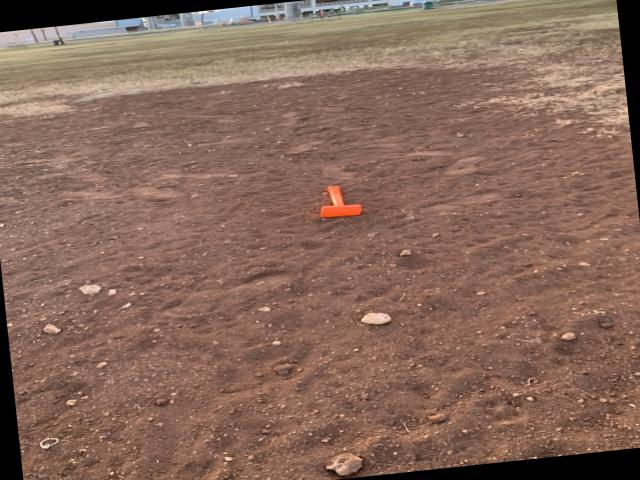hammer: (317, 183, 364, 220)
